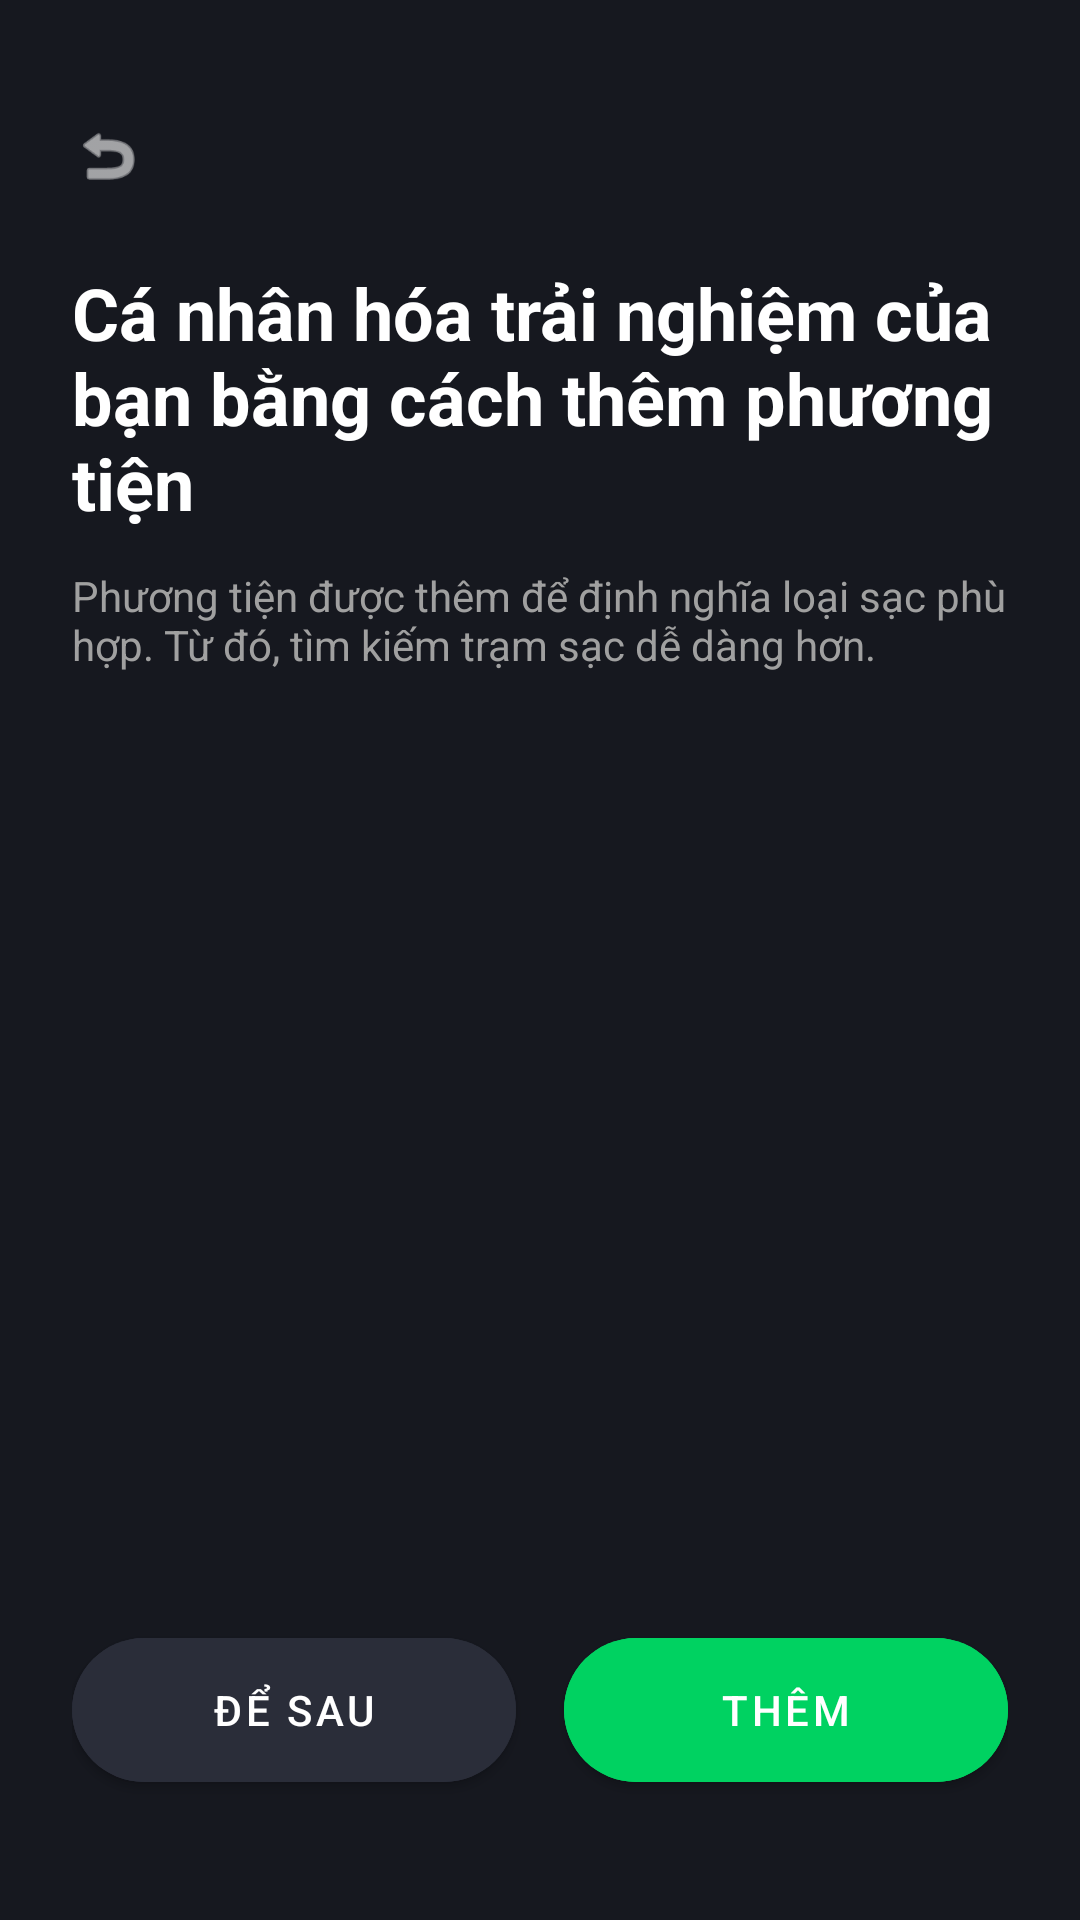

Where icons sit on this 1080 × 1920 app screen, as (x1, y1, x2, y2):
revert: (83, 133, 135, 180)
